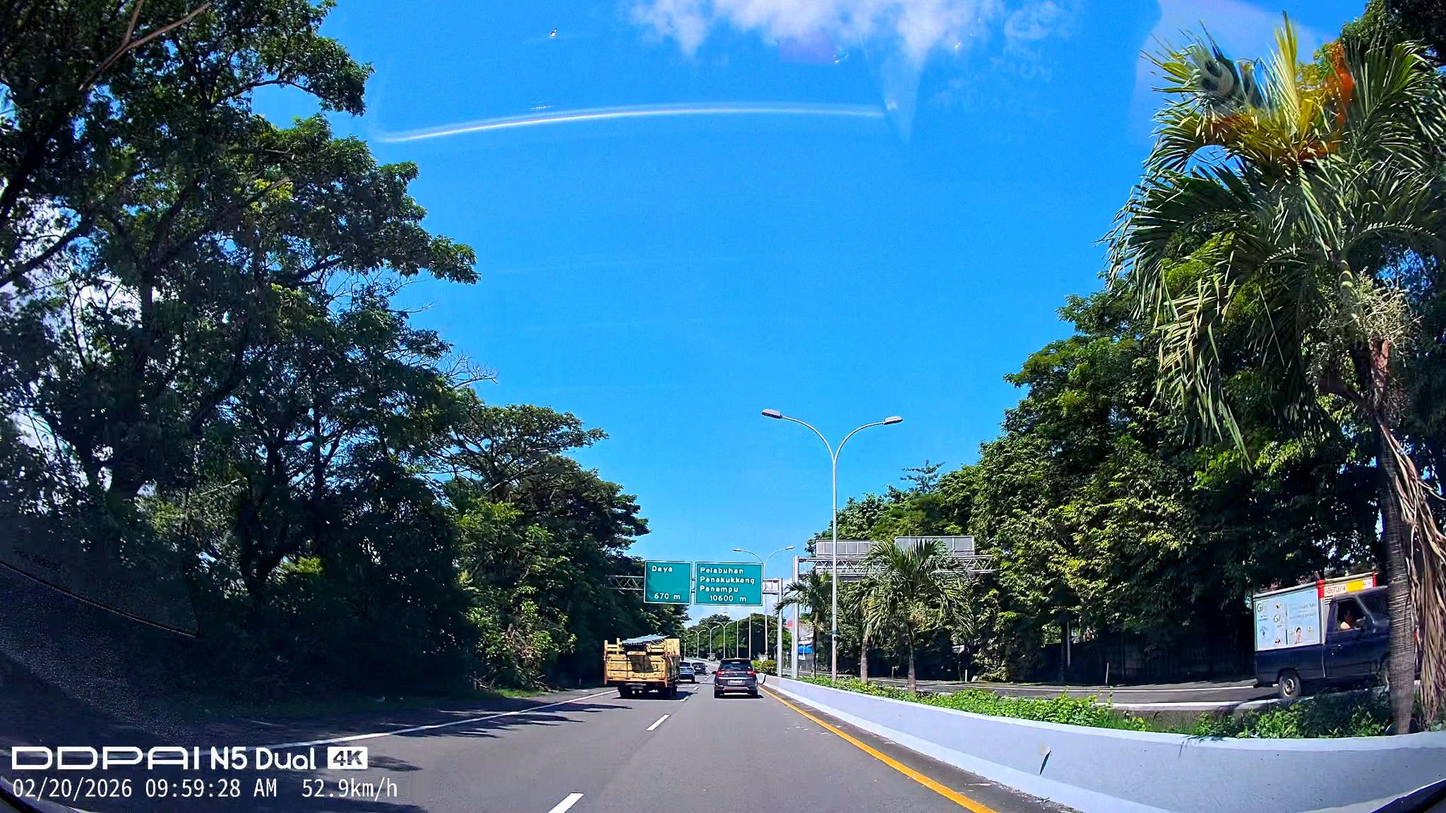rambu_teks: (695, 562, 763, 607), (644, 560, 692, 605)
